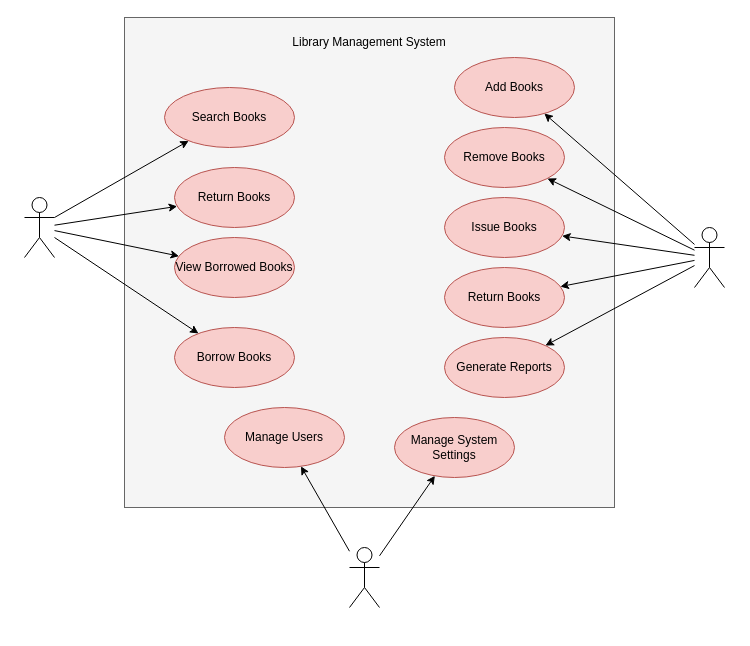
Some shapes in this 750 by 646 pixel diagram are drawn without their labels. Here are the shapes that lost their labels. From the top down, the centre of each, then its label:
point 39,227: Member
point 709,257: Librarian
point 364,577: Administrator
